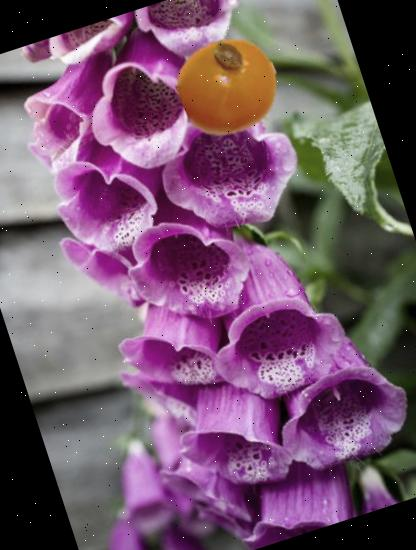Physalis: (166, 24, 292, 150)
